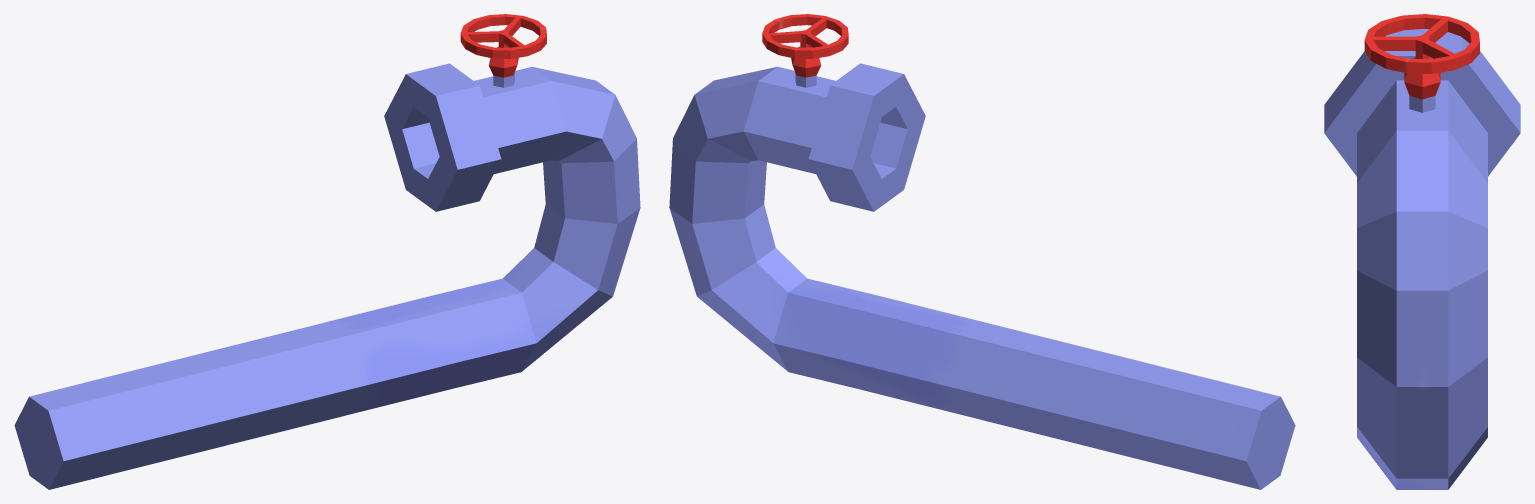
File: UTurnTube.fbx
3 views of the same model, side by side, from view 1: azimuth 30°, elevation 25°; view 2: azimuth 150°, elevation 25°; view 3: azimuth 270°, elevation 25° (orthographic). The views are drawn at different scales.
Visible parts, largest first — view 1: Cube; view 2: Cube; view 3: Cube.
Part boxes in pixels (x1,y1,x2,y2): Cube: (14, 14, 640, 489); Cube: (669, 14, 1295, 489); Cube: (1324, 14, 1520, 489).
Size of the model in its own units: 1070 by 582 by 230.
1 material, 1 textured.
